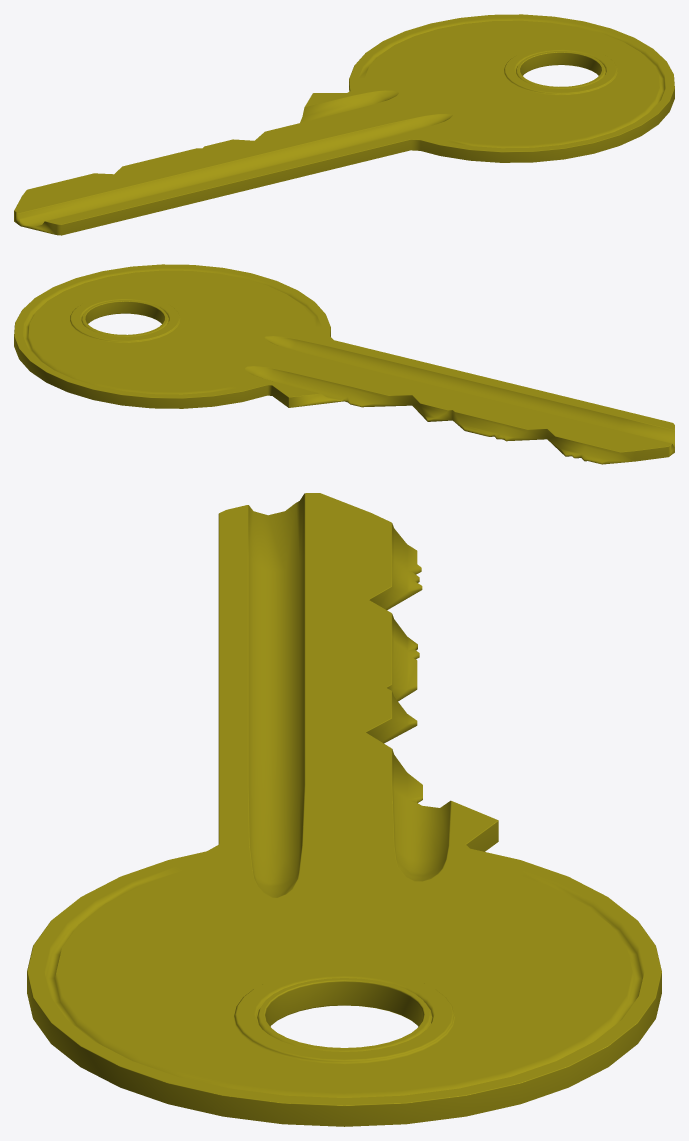
Rendered from Key-003_UnifiedNormals_Lo.fbx.
3 views of the same model, one above another, from view 1: azimuth 30°, elevation 25°; view 2: azimuth 150°, elevation 25°; view 3: azimuth 270°, elevation 25° (orthographic). The views are drawn at different scales.
Parts seen in each view (by area): view 1: Key_003_Lo; view 2: Key_003_Lo; view 3: Key_003_Lo.
Part boxes in pixels (x1,y1,x2,y2): Key_003_Lo: [14, 14, 674, 235]; Key_003_Lo: [14, 264, 674, 464]; Key_003_Lo: [27, 493, 661, 1126].
Size of the model in its own units: 8.94 by 3.92 by 0.175.
